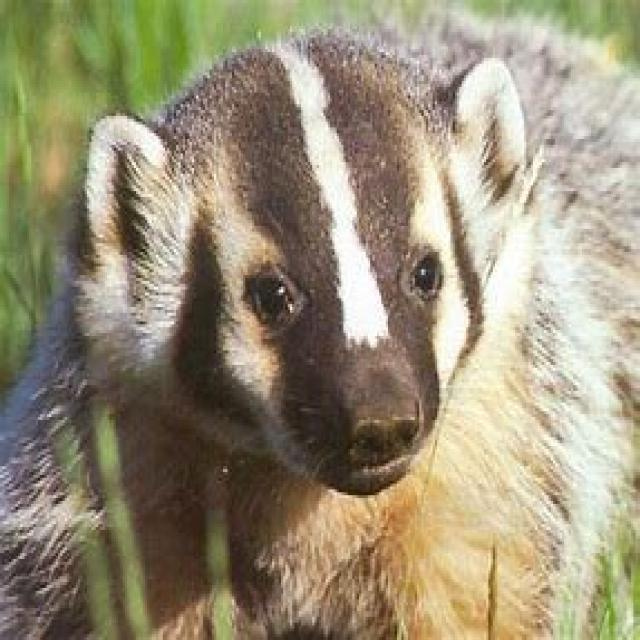Badger: (14, 12, 639, 640)
